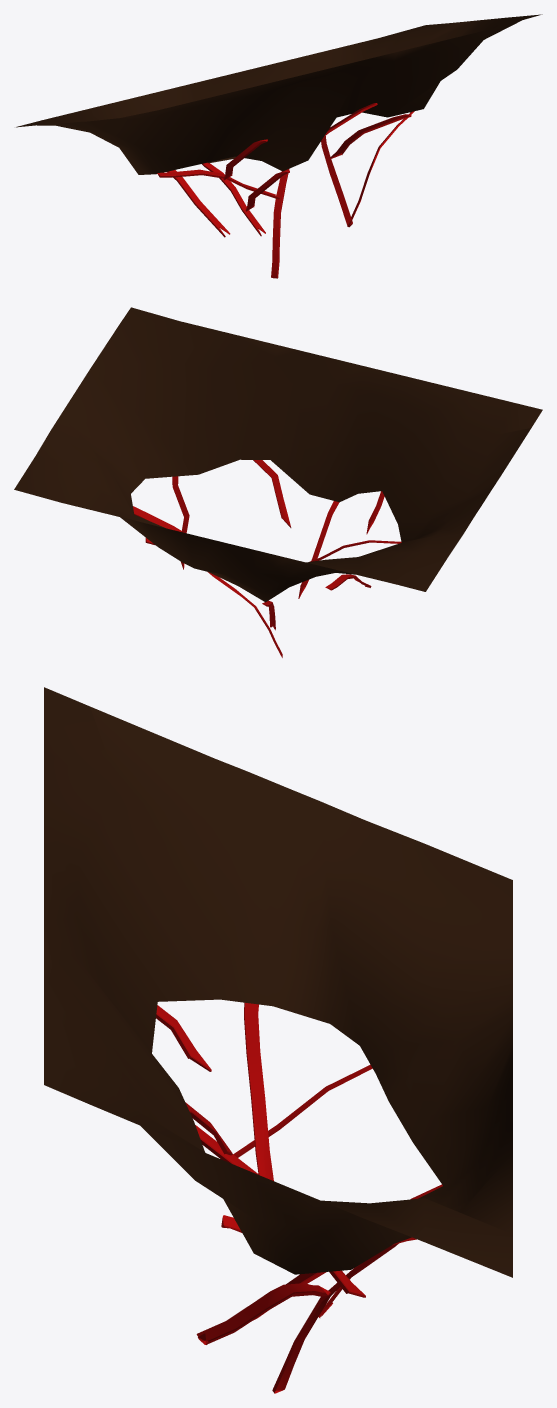
Rendered from Toit_FermeHouse.fbx.
3 views of the same model, one above another, from view 1: azimuth 30°, elevation 25°; view 2: azimuth 150°, elevation 25°; view 3: azimuth 270°, elevation 25° (orthographic). The views are drawn at different scales.
Parts seen in each view (by area): view 1: Toit_FermeHouse; view 2: Toit_FermeHouse; view 3: Toit_FermeHouse.
Boxes of the visible parts, x1,y1,x2,y2 form: Toit_FermeHouse: (16, 14, 542, 278); Toit_FermeHouse: (14, 307, 542, 657); Toit_FermeHouse: (44, 687, 512, 1393).
Bounding box in the file's own units: 1221 × 722 × 600.
